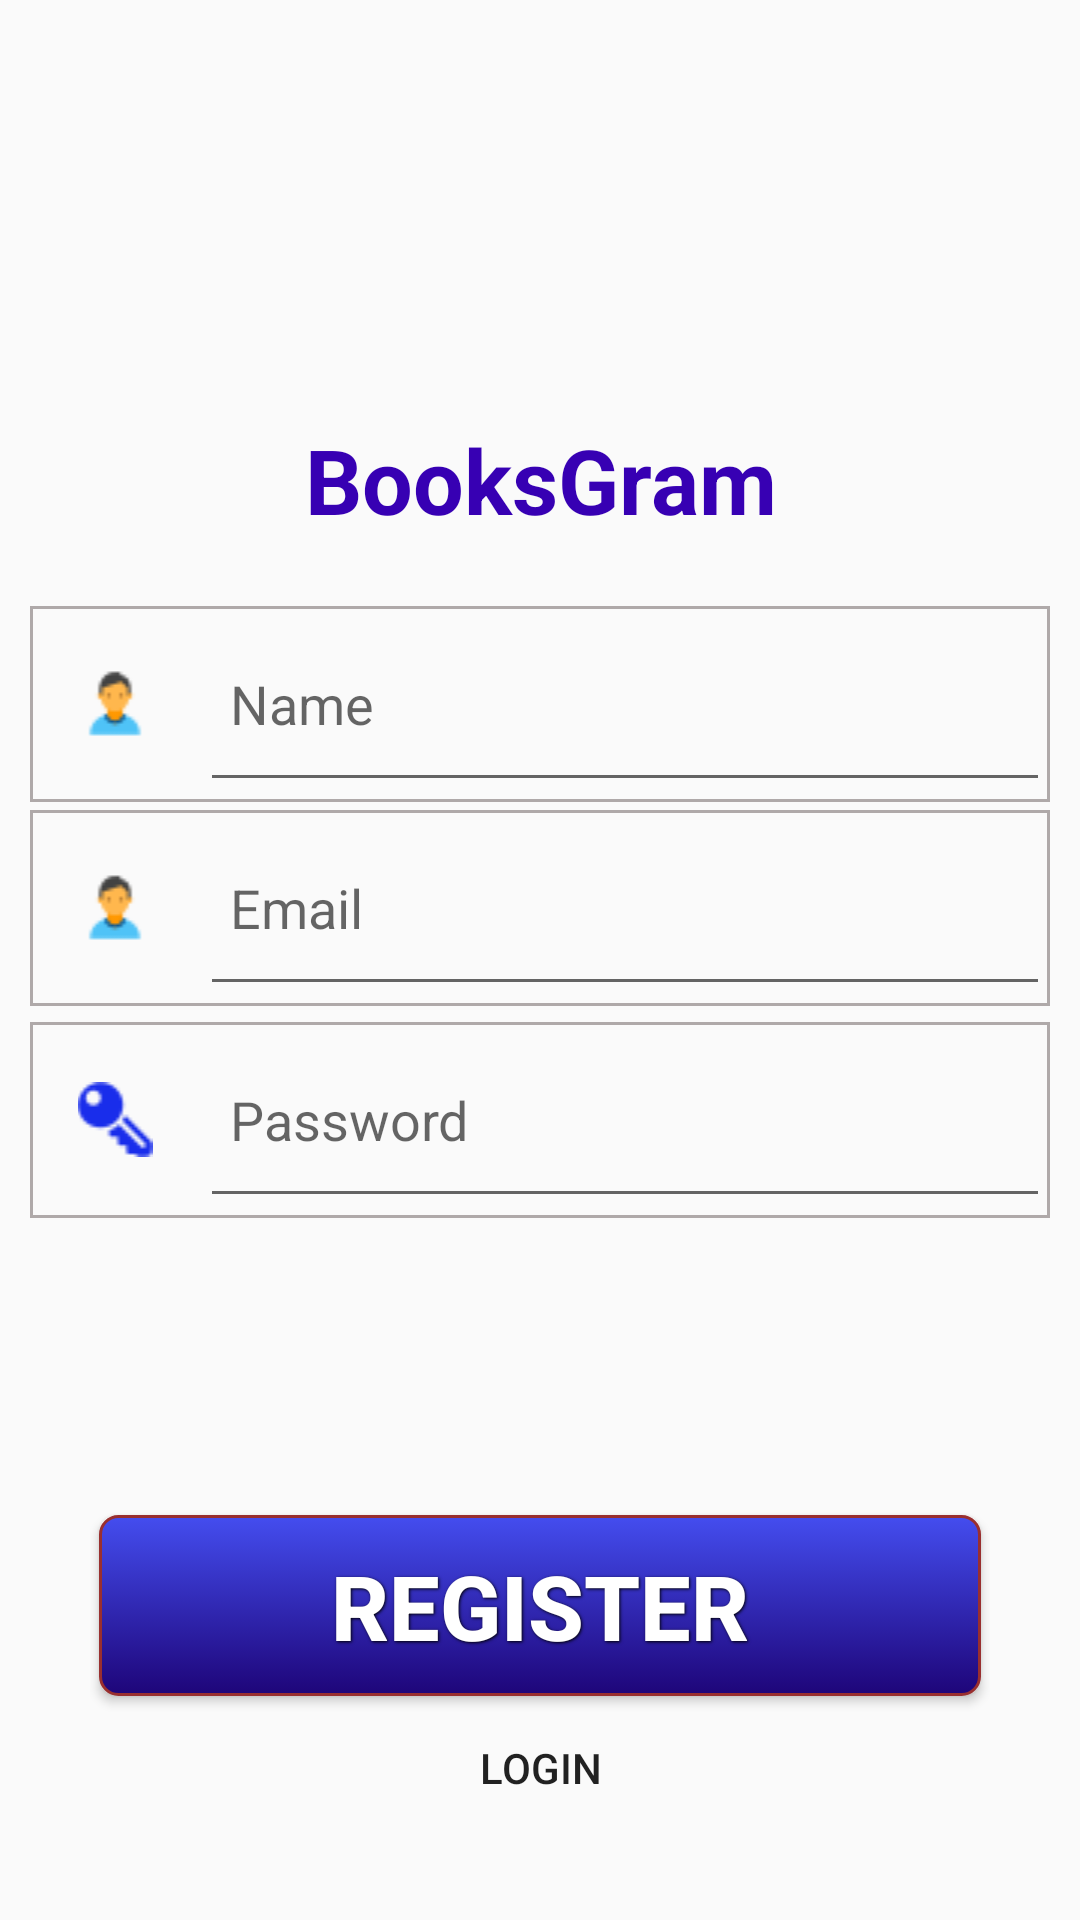

Icons on this 1080w x 1920h Android screen, each with the point to tap as (x,y):
user: (115,703), (115,907)
